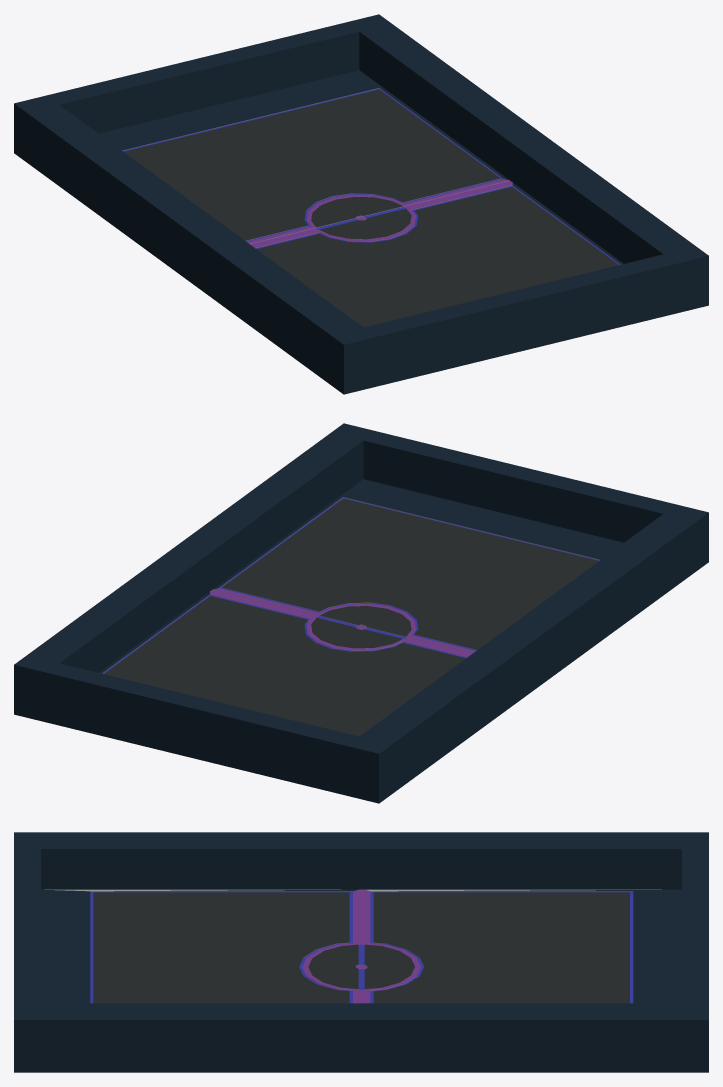
File: Quadra.glb
3 views of the same model, one above another, from view 1: azimuth 30°, elevation 25°; view 2: azimuth 150°, elevation 25°; view 3: azimuth 270°, elevation 25° (orthographic). The views are drawn at different scales.
Parts seen in each view (by area): view 1: Cube.133; view 2: Cube.133; view 3: Cube.133.
Part boxes in pixels (x1,y1,x2,y2): Cube.133: (14, 14, 708, 394); Cube.133: (14, 423, 708, 803); Cube.133: (14, 832, 708, 1072).
Bounding box in the file's own units: 25.06 × 3.27 × 39.21.
